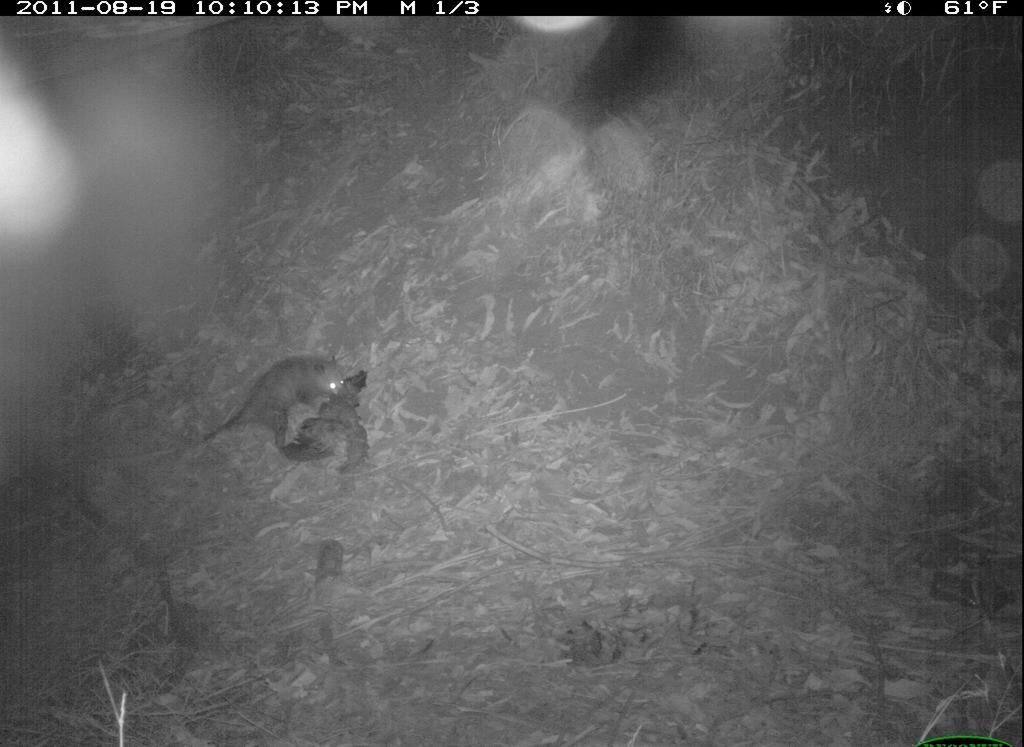opossum: (186, 356, 368, 470)
